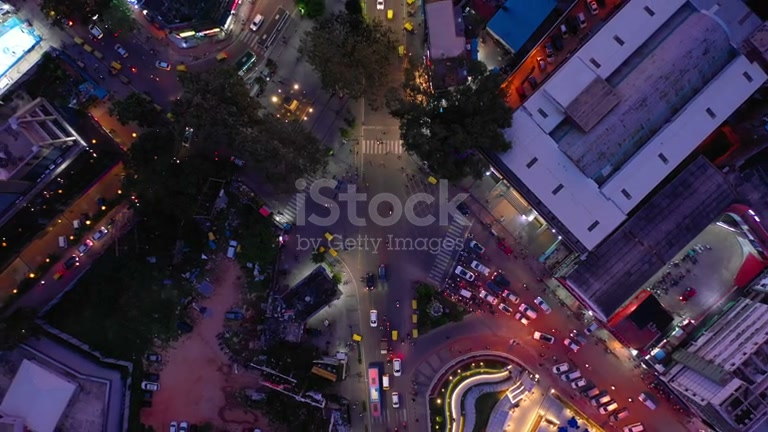car: (605, 210, 768, 369)
